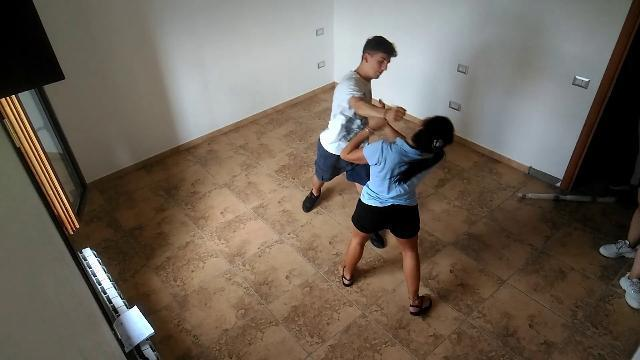non-violence: (597, 210, 640, 307)
violence: (303, 34, 457, 320)
